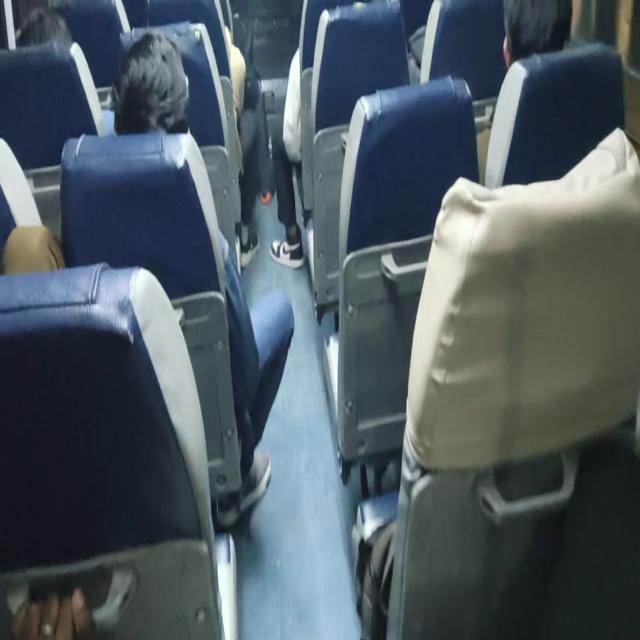person: (118, 34, 196, 140), (493, 0, 584, 71), (14, 4, 71, 53)
